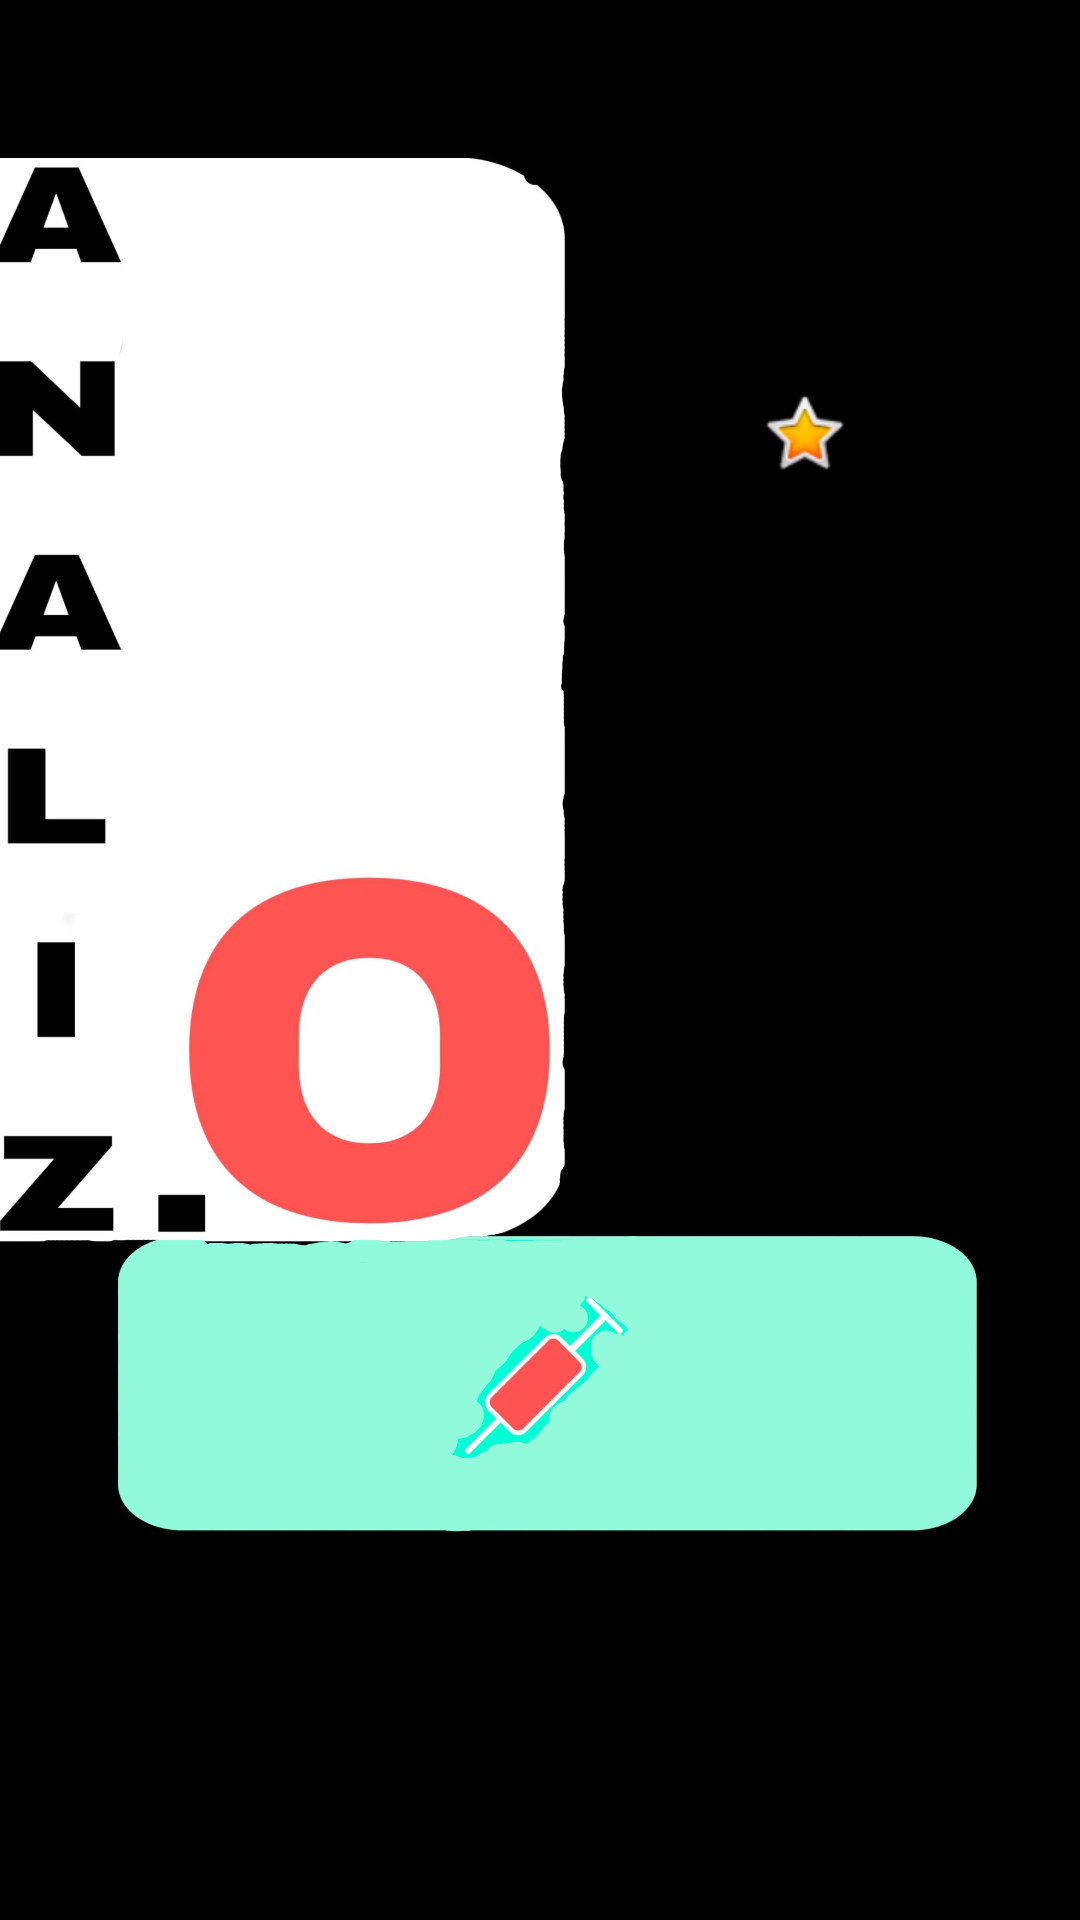

Icon bounding boxes for this 1080x1920 phone screenshot, format BBox(x1, y1, x2, y2):
star on: BBox(766, 396, 844, 470)
